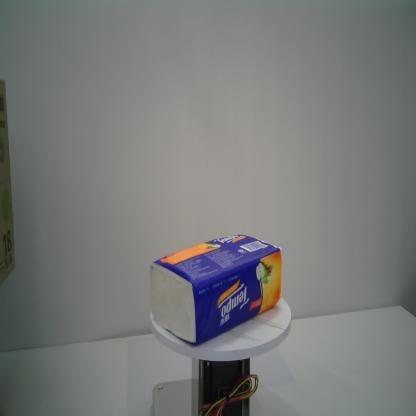Tissue: (149, 234, 282, 343)
